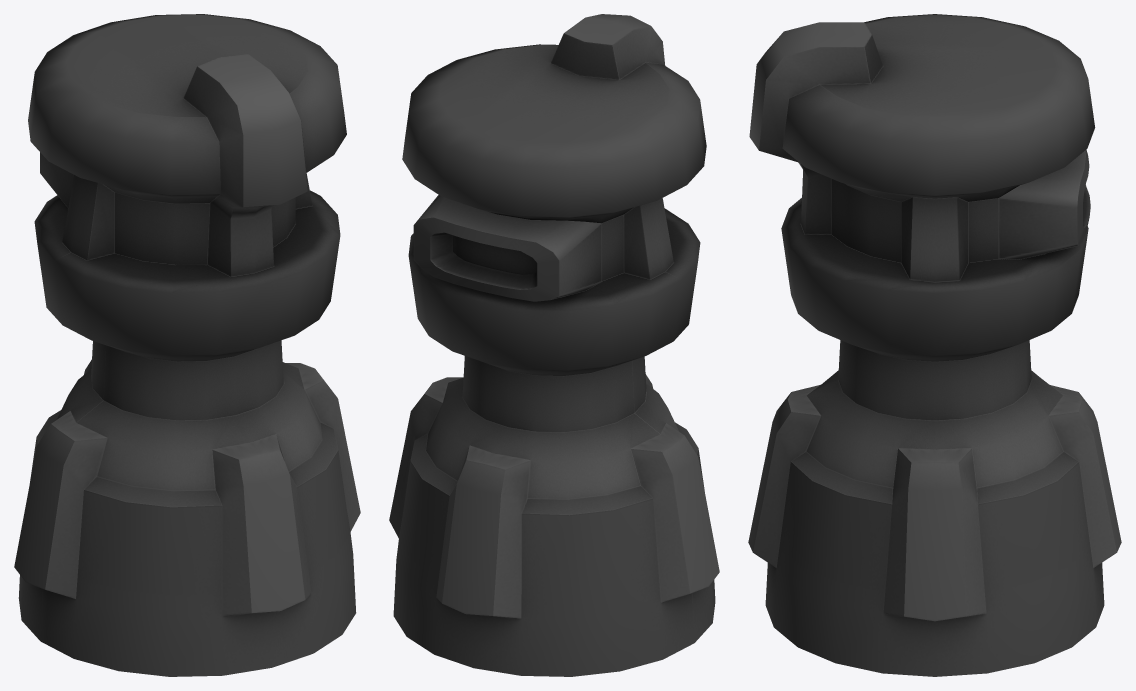
The model's file is Turret1_body.fbx.
3 renders of one model, left to right at view 1: azimuth 30°, elevation 25°; view 2: azimuth 150°, elevation 25°; view 3: azimuth 270°, elevation 25°, orthographic. The views are drawn at different scales.
Parts seen in each view (by area): view 1: Turret_Body; view 2: Turret_Body; view 3: Turret_Body.
Boxes of the visible parts, x1,y1,x2,y2 form: Turret_Body: (14,14,360,676); Turret_Body: (389,14,719,676); Turret_Body: (748,14,1121,676).
Bounding box in the file's own units: 232 × 391 × 232.
1 material, 1 textured.
